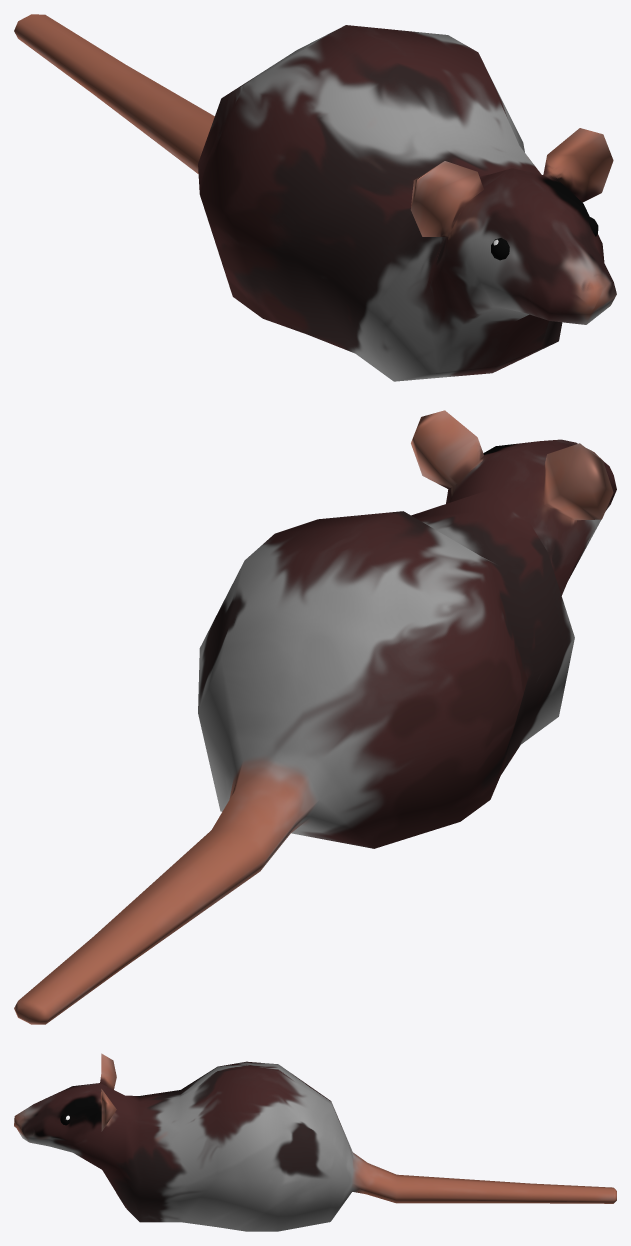
Rendered from SM_Rat2.fbx.
The picture shows the model from 3 angles, top to bottom: view 1: azimuth 30°, elevation 25°; view 2: azimuth 150°, elevation 25°; view 3: azimuth 270°, elevation 25°; orthographic projection. The views are drawn at different scales.
Visible parts, largest first — view 1: rat2; view 2: rat2; view 3: rat2.
Part boxes in pixels (box(x1,y1,x2,y2)): rat2: box(14, 14, 616, 381); rat2: box(14, 410, 616, 1024); rat2: box(14, 1053, 616, 1231).
Size of the model in its own units: 0.2993 by 0.2422 by 0.9992.
